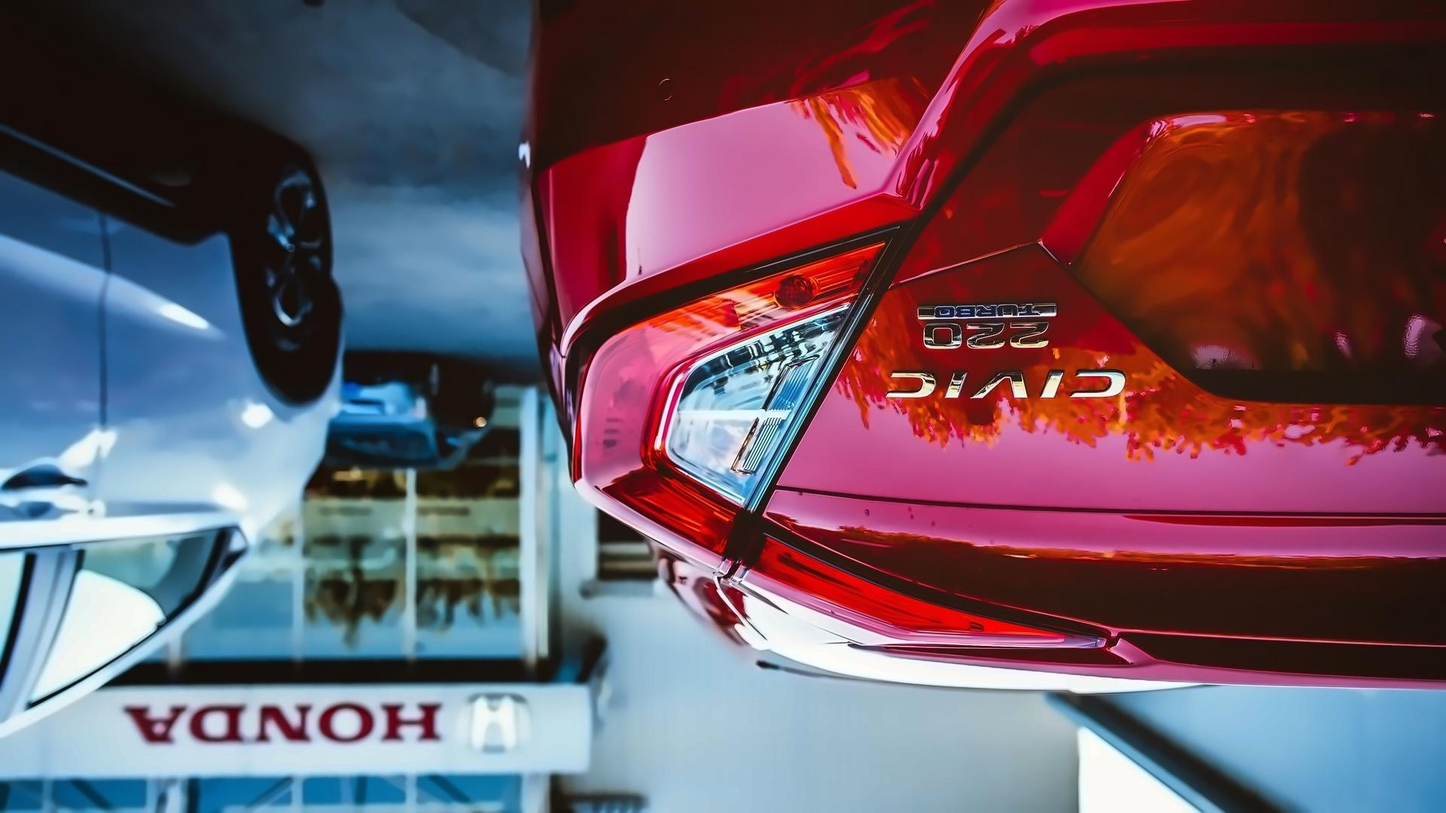Car boot: (718, 13, 1446, 696)
Rear bumper: (488, 0, 1162, 409)
Rear light - -R-: (550, 204, 927, 592)
